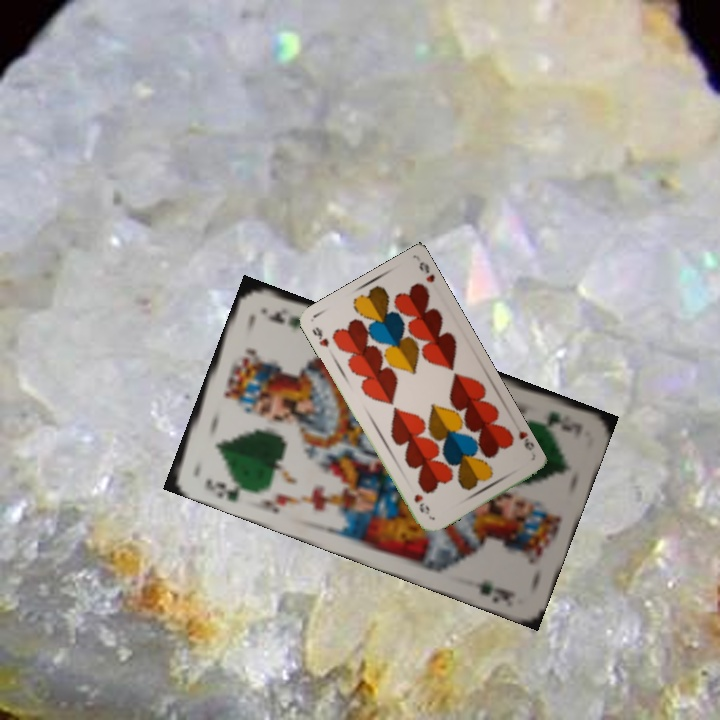GK: (201, 475, 253, 504), (542, 408, 576, 434)
H9: (511, 421, 536, 453), (308, 323, 332, 350)
